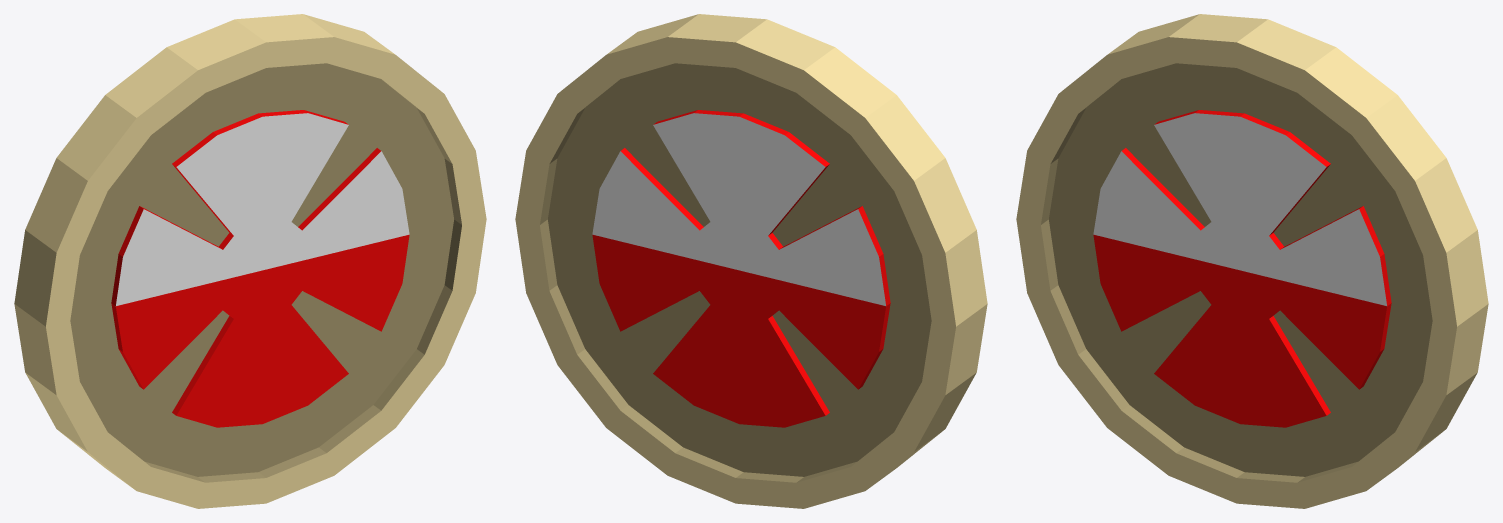
Rendered from CoinAnim3.0.fbx.
The picture shows the model from 3 angles, left to right: view 1: azimuth 30°, elevation 25°; view 2: azimuth 150°, elevation 25°; view 3: azimuth 330°, elevation 25°; orthographic projection.
Parts seen in each view (by area): view 1: pCylinder1; view 2: pCylinder1; view 3: pCylinder1.
Boxes of the visible parts, x1=… form: pCylinder1: x1=14, y1=14, x2=486, y2=508; pCylinder1: x1=515, y1=14, x2=987, y2=508; pCylinder1: x1=1016, y1=14, x2=1488, y2=508.
Bounding box in the file's own units: 14.11 × 14.11 × 1.75.
